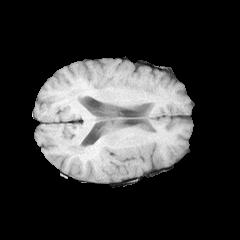glioma: (84, 146, 138, 180)
